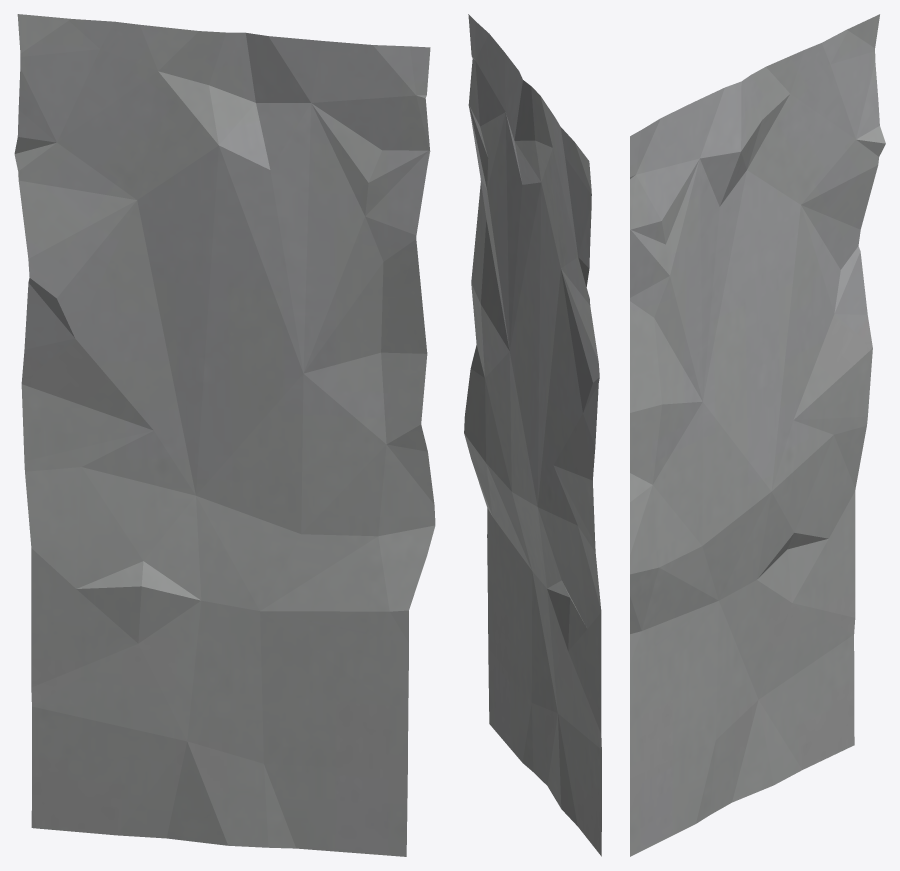
3 renders of one model, left to right at view 1: azimuth 30°, elevation 25°; view 2: azimuth 150°, elevation 25°; view 3: azimuth 270°, elevation 25°, orthographic. The views are drawn at different scales.
Bounding box in the file's own units: 0.3057 × 0.8374 × 0.2656.
Materials: 1 (1 with a texture image).
